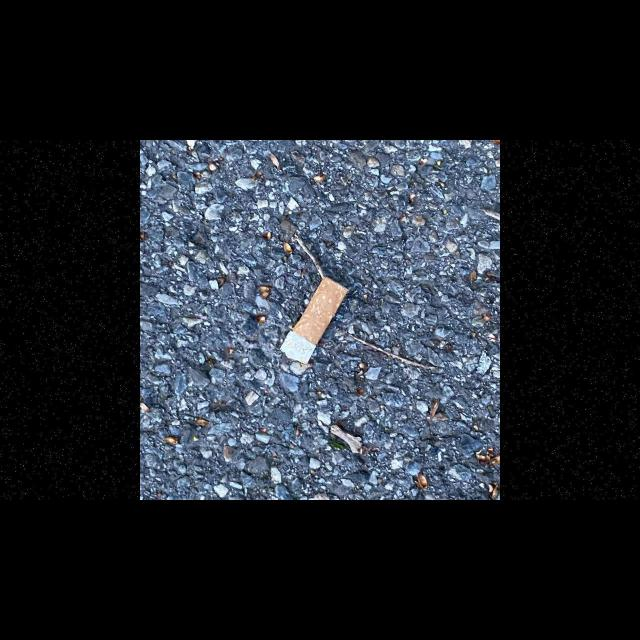cigarette: (278, 275, 349, 366)
